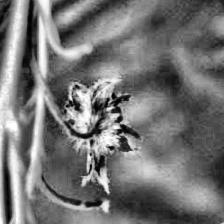Gray Mold: (61, 76, 142, 195)
